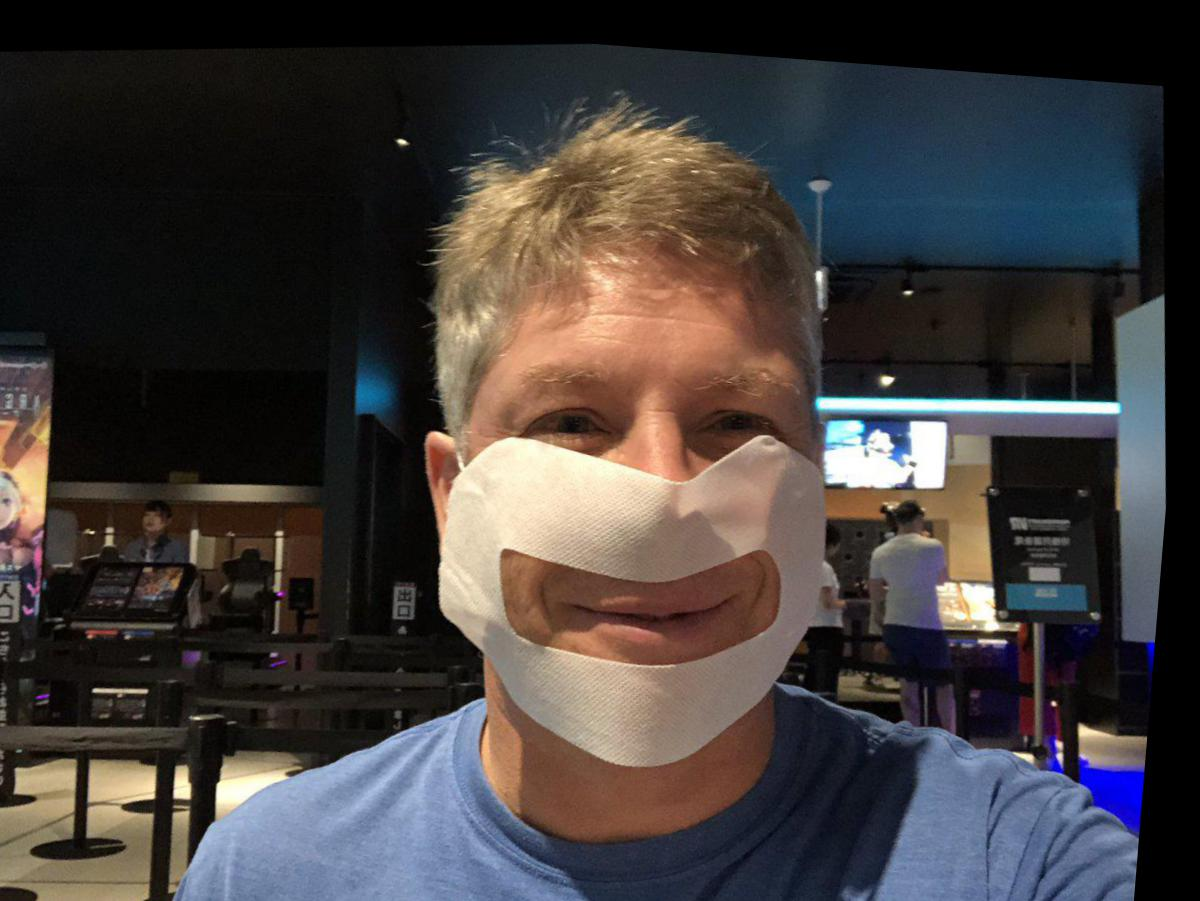WRONG: (436, 290, 871, 729)
